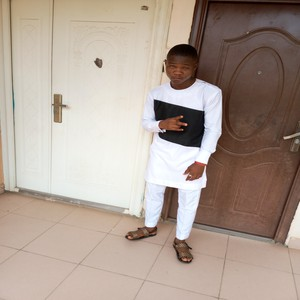Fulokoja_male_student: (146, 46, 208, 260)
